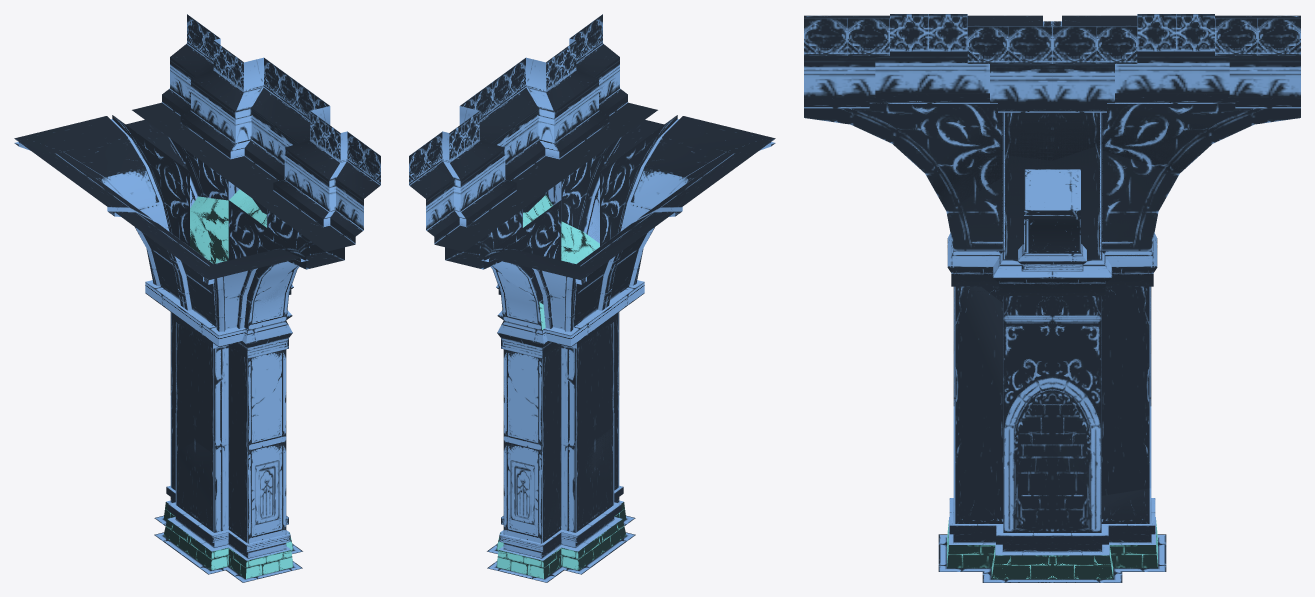
The model's file is bl005c-color.glb.
The picture shows the model from 3 angles, left to right: view 1: azimuth 30°, elevation 25°; view 2: azimuth 150°, elevation 25°; view 3: azimuth 270°, elevation 25°; orthographic projection. The views are drawn at different scales.
Parts seen in each view (by area): view 1: D9_M00, D0_M00, D9_M01, D9_M05, D9_M03, D9_M04, D9_M02; view 2: D9_M00, D0_M00, D9_M01, D9_M05, D9_M02, D9_M04, D9_M03; view 3: D9_M00, D0_M00, D9_M05, D9_M01, D9_M02, D9_M03, D9_M04.
Part boxes in pixels (x1,y1,x2,y2): D9_M00: [14, 14, 380, 582]; D0_M00: [17, 39, 380, 581]; D9_M01: [170, 321, 286, 454]; D9_M05: [170, 189, 293, 358]; D9_M03: [228, 437, 286, 543]; D9_M04: [176, 437, 228, 512]; D9_M02: [170, 367, 194, 451]; D9_M00: [409, 14, 775, 582]; D0_M00: [426, 15, 774, 572]; D9_M01: [503, 312, 619, 440]; D9_M05: [493, 213, 618, 373]; D9_M02: [503, 401, 594, 499]; D9_M04: [582, 427, 614, 484]; D9_M03: [614, 394, 619, 486]; D9_M00: [804, 14, 1300, 582]; D0_M00: [804, 14, 1299, 582]; D9_M05: [946, 145, 1178, 330]; D9_M01: [953, 286, 1151, 448]; D9_M02: [1053, 353, 1151, 499]; D9_M03: [953, 405, 1003, 523]; D9_M04: [1003, 442, 1098, 522].
Size of the model in its own units: 6.47 by 12.66 by 10.
Materials: 4 (4 with a texture image).
